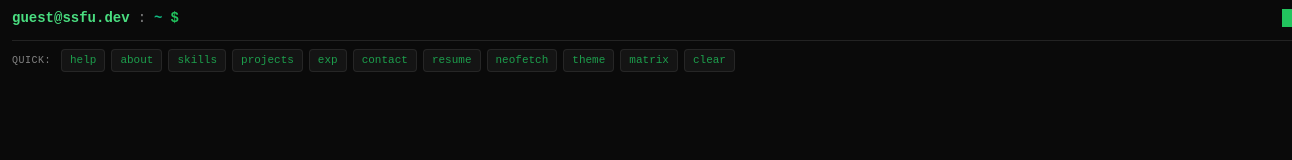
TerminalInput autocomplete › completes the multi-word sudo hire me command
The width and height of the screenshot is (1292, 160).
In the field: [735, 18] box [187,8,1283,28], type "sudo h"
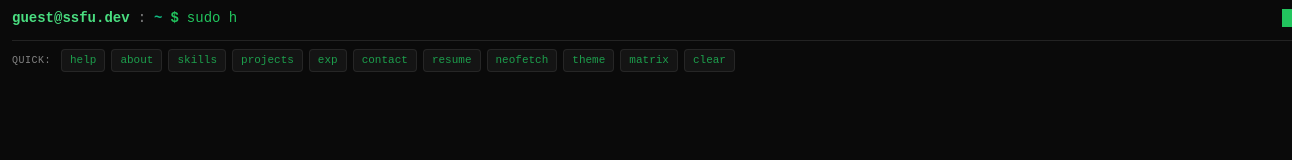
Press Tab in the field, box [187,8,1283,28]
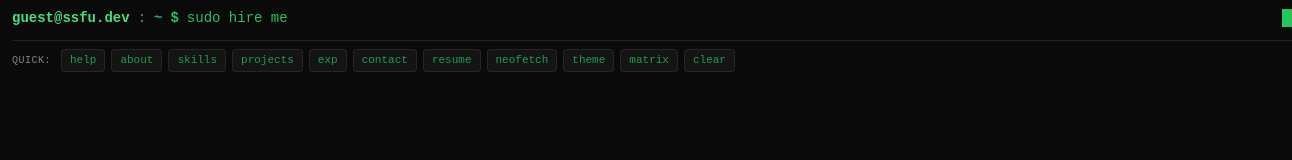
Expected: the field holds "sudo hire me", [187,8,1283,28]
